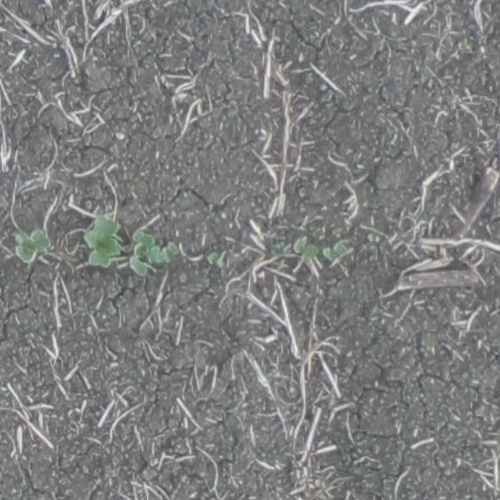plant: (129, 230, 179, 276), (85, 216, 120, 263), (15, 228, 49, 262), (293, 235, 318, 259), (323, 241, 349, 262), (208, 249, 225, 269)
